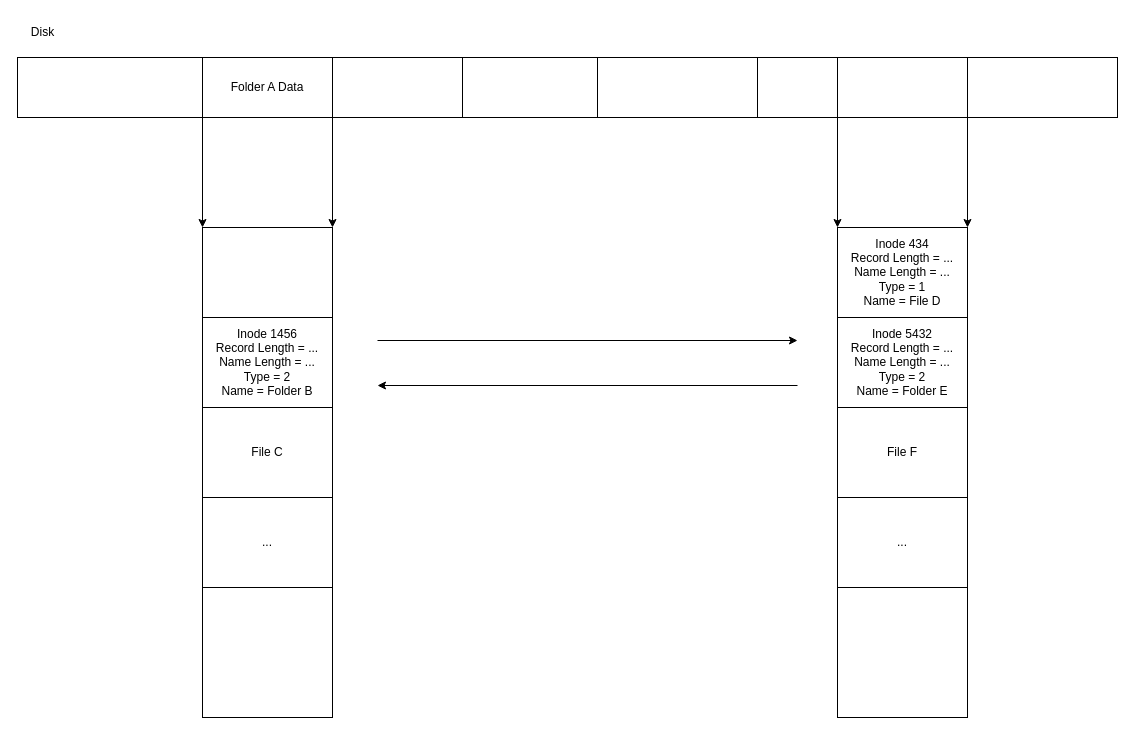
This 1135x735 diagram has some shape labels left out. Each missing label, with the centre of its shape:
"Echo Data" goes at pixel 677 87.
"Folder B Data" goes at pixel 902 87.
"Hello World Data" goes at pixel 397 87.
"Inode 12 Record Length = ... Name Length = ... Type = 1 Name = File A" goes at pixel 267 272.
